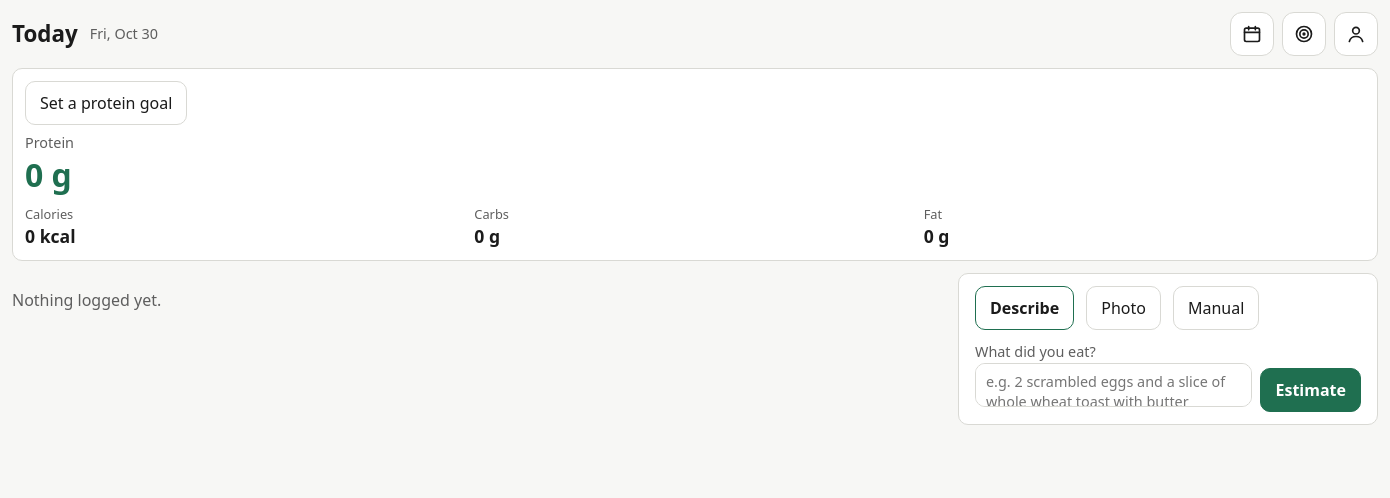
Test case: Composer: describe on Today › (i) shows progress with Cancel in the card area; Cancel keeps the text
The width and height of the screenshot is (1390, 498).
Step 1. Type "banana" into the text box labelled "What did you eat?" → x=1114, y=385, box [975,363,1252,407]
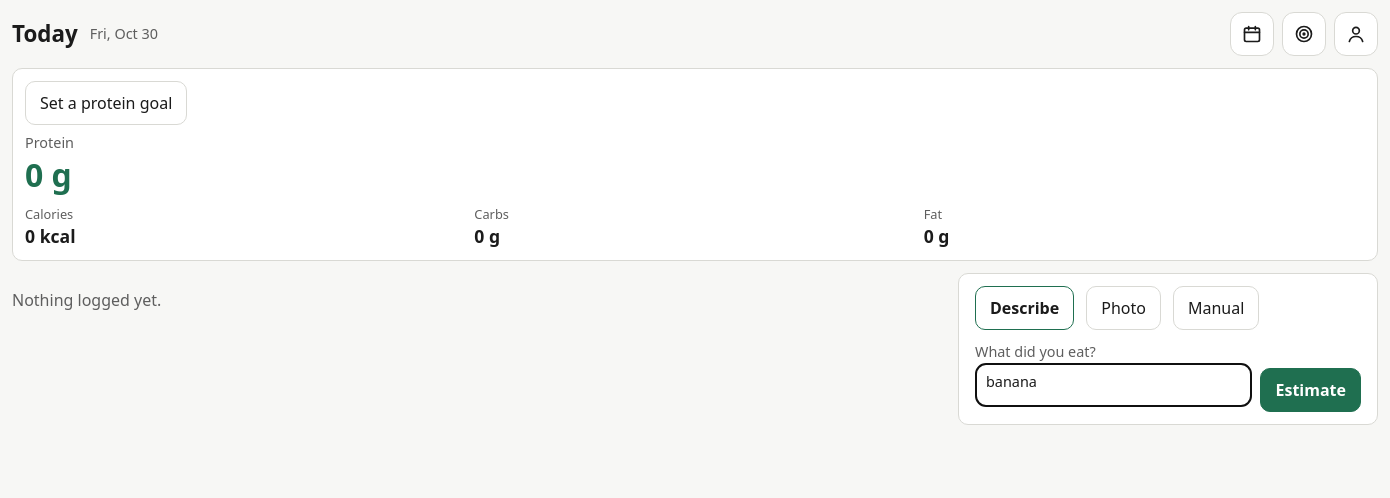
Step 2. Click the button "Estimate" → x=1311, y=390, box [1260,368,1361,412]
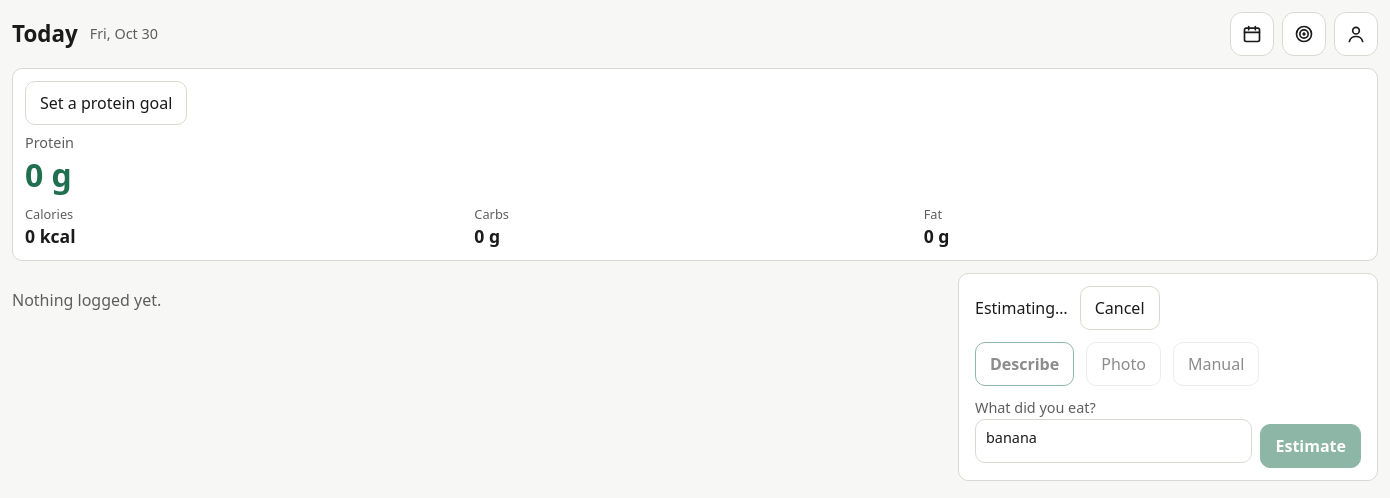
Expected: the message shows "Estimating", [975,297,1068,319]
Step 3. Click the button "Cancel" → x=1120, y=308, box [1080,286,1160,330]
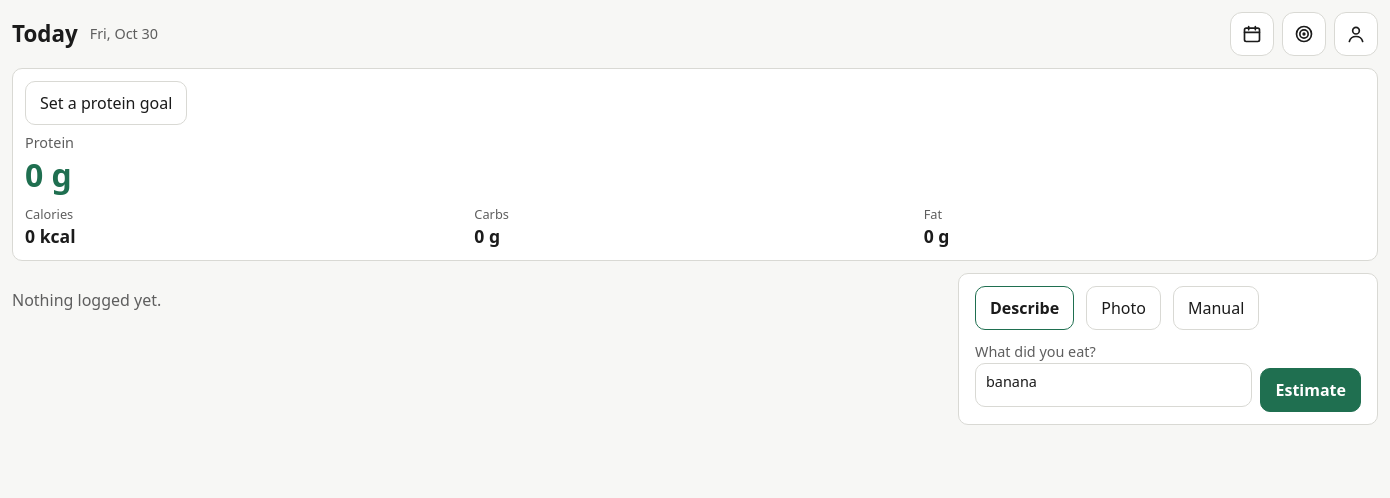
Expected: the message "Estimating…" is gone
